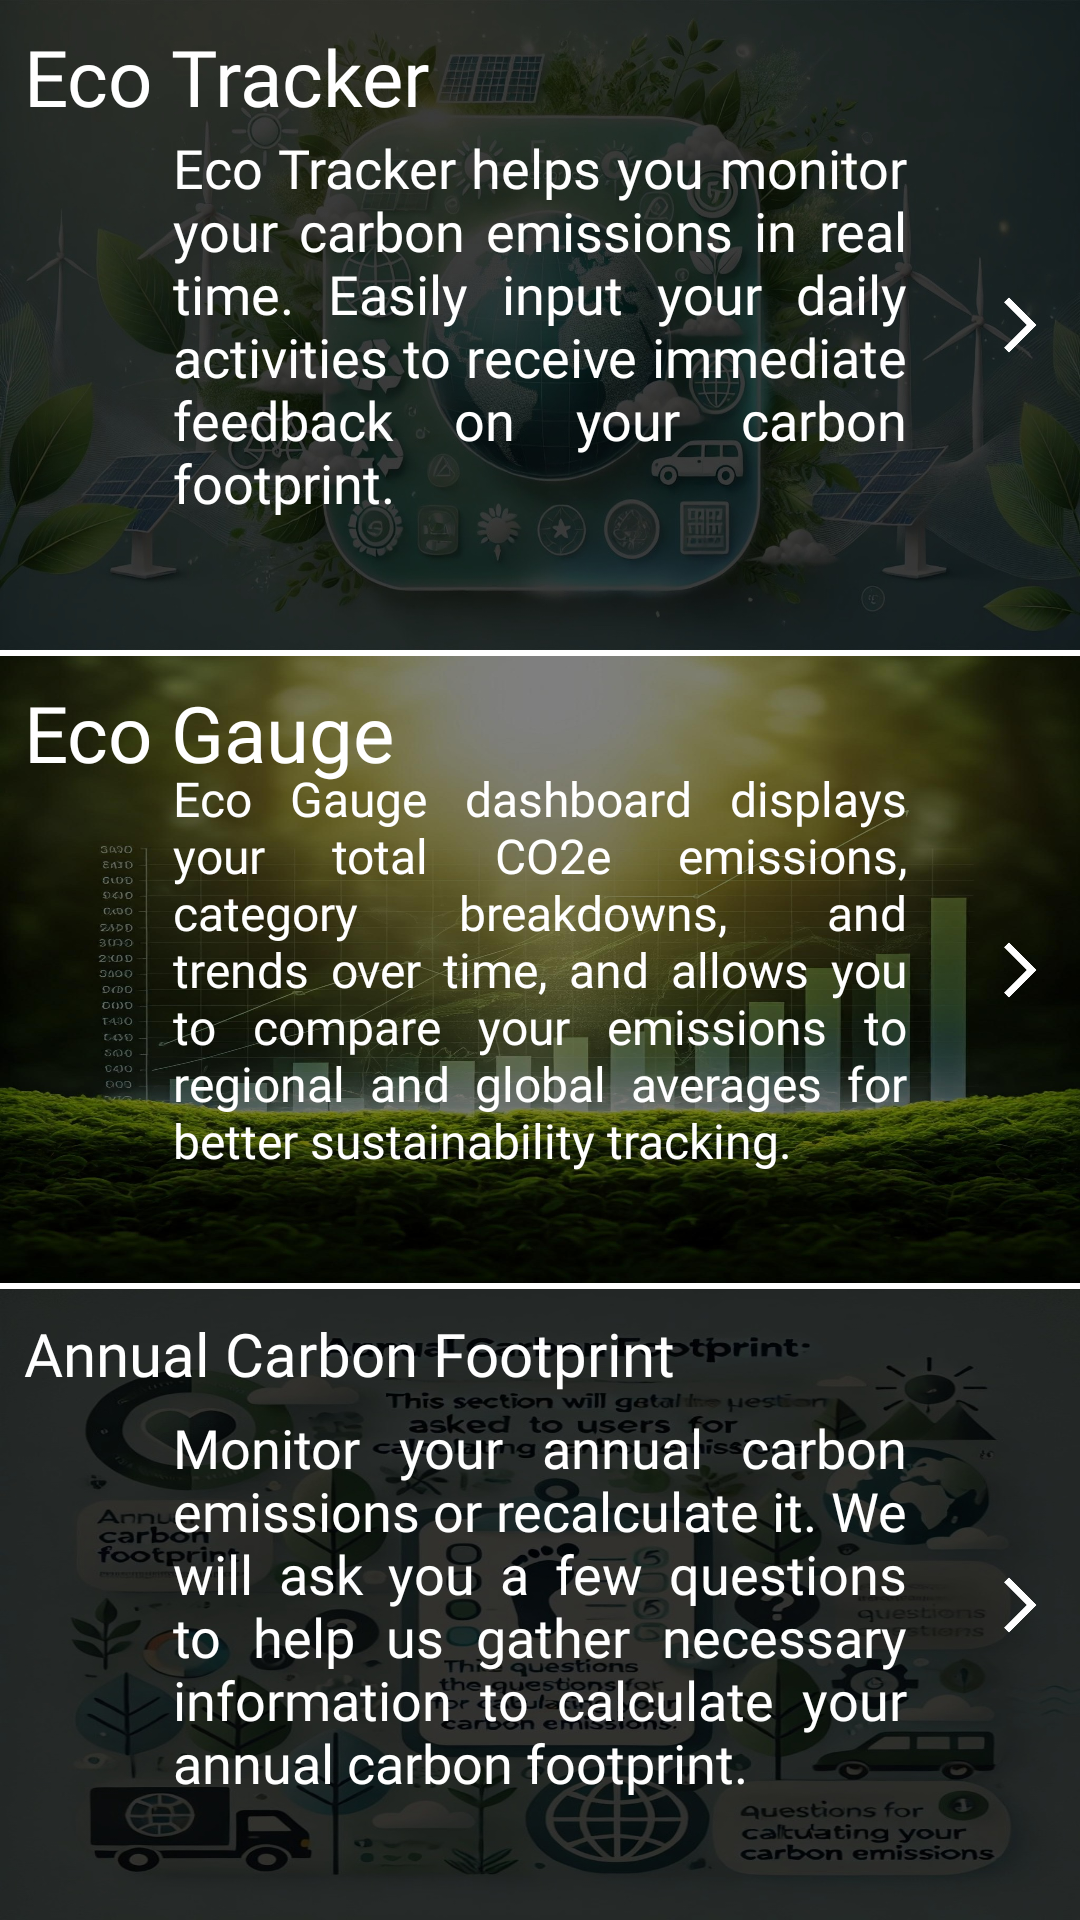

Icon bounding boxes for this 1080*1920 phone screenshot, format box=[x1, y1, x2, y2]:
arrow right: box=[985, 298, 1053, 359], box=[1004, 943, 1036, 997], box=[1004, 1578, 1036, 1632]
